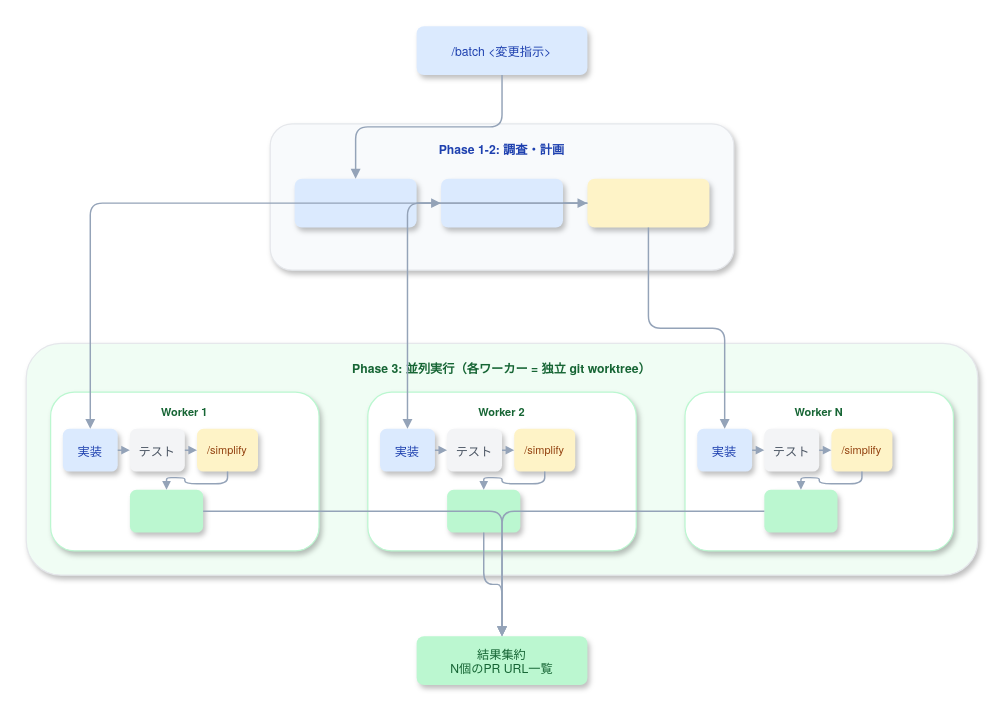
Image size: 1007x714. Some labels were removed from this diagram. The shapes that lost their labels are listed below. From the top down, each one's centre as x and y in pixels, then its label:
At (x=356, y=204): "Explore エージェント".
At (x=503, y=204): "ユニット分解 (5〜30単位)".
At (x=649, y=204): "計画を提示 ユーザー承認".
At (x=167, y=512): "PR #1".
At (x=484, y=512): "PR #2".
At (x=801, y=512): "PR #N".
